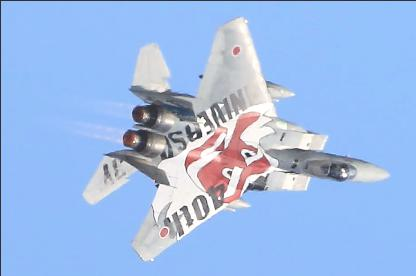F117: (82, 15, 390, 259)
